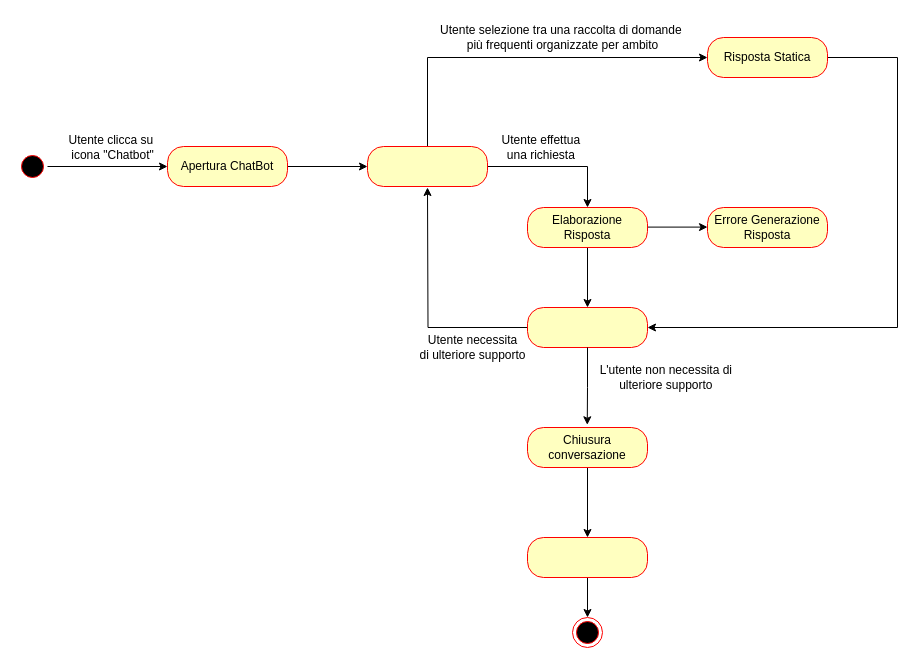
Image size: 923x665. Some labels were removed from this diagram. Each missing label, with the centre of its shape:
"Attesa Input Utente" belongs at point (427, 166).
"Conversazione Terminata" belongs at point (587, 557).
"Visualizzazione risposta" belongs at point (587, 327).
